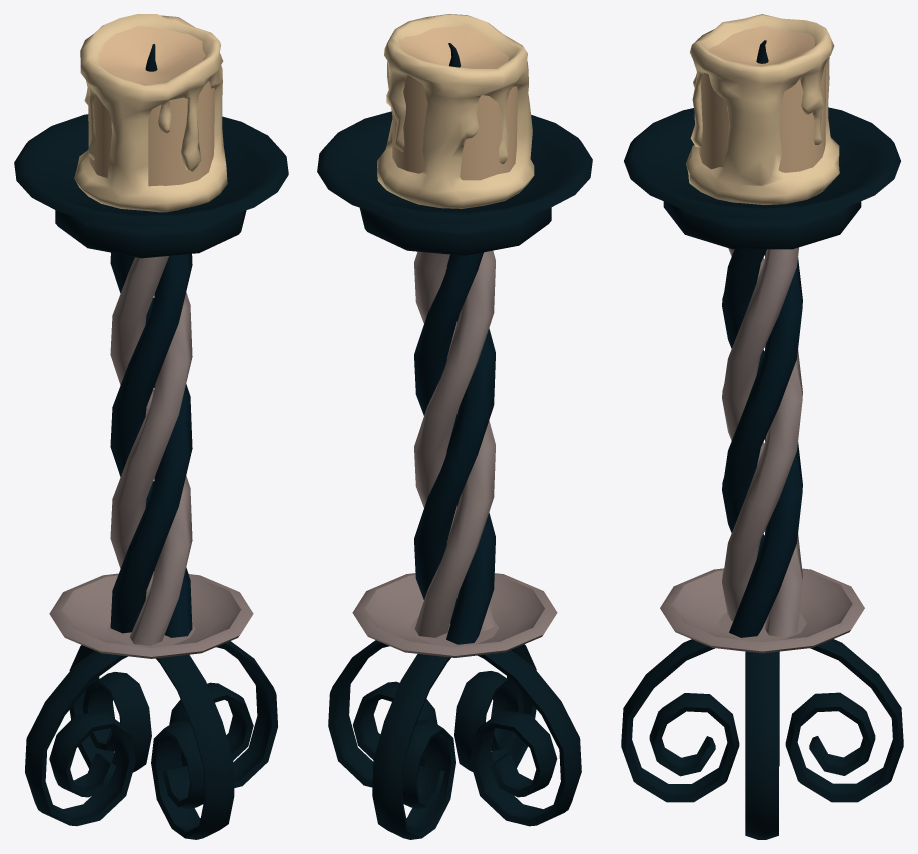
The model's file is 094_candelabra.glb.
3 renders of one model, left to right at view 1: azimuth 30°, elevation 25°; view 2: azimuth 150°, elevation 25°; view 3: azimuth 270°, elevation 25°, orthographic.
Visible parts, largest first — view 1: curled_legs, twisted_decorations, plate_top, candle_molten, candle_body, plate_bottom; view 2: curled_legs, twisted_decorations, candle_molten, plate_top, candle_body, plate_bottom; view 3: twisted_decorations, curled_legs, plate_top, candle_molten, plate_bottom, candle_body.
Part boxes in pixels (x1,y1,x2,y2): curled_legs: [25, 641, 277, 839]; twisted_decorations: [110, 252, 192, 645]; plate_top: [14, 114, 288, 258]; candle_molten: [74, 14, 227, 212]; candle_body: [88, 26, 214, 186]; plate_bottom: [49, 571, 253, 658]; curled_legs: [328, 640, 581, 839]; twisted_decorations: [414, 250, 495, 644]; candle_molten: [377, 14, 534, 208]; plate_top: [317, 111, 592, 255]; candle_body: [392, 26, 517, 180]; plate_bottom: [352, 573, 557, 657]; twisted_decorations: [722, 247, 802, 637]; curled_legs: [621, 639, 903, 839]; plate_top: [624, 107, 900, 249]; candle_molten: [686, 14, 839, 204]; plate_bottom: [660, 568, 864, 653]; candle_body: [699, 26, 825, 172].
Size of the model in its own units: 0.7502 by 2.25 by 0.7502.
